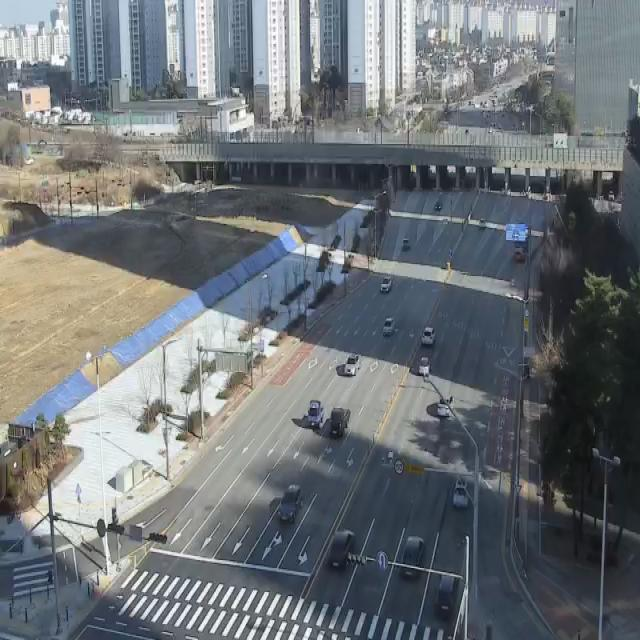Car: (328, 529, 356, 569), (434, 574, 460, 616), (400, 536, 425, 578), (278, 484, 303, 524), (453, 481, 470, 509), (344, 355, 360, 376), (438, 396, 454, 416), (422, 327, 436, 345), (383, 317, 396, 335), (419, 357, 431, 375), (513, 248, 526, 263), (380, 277, 392, 293), (478, 218, 486, 229)
Truck: (330, 408, 350, 437), (308, 401, 324, 428)
